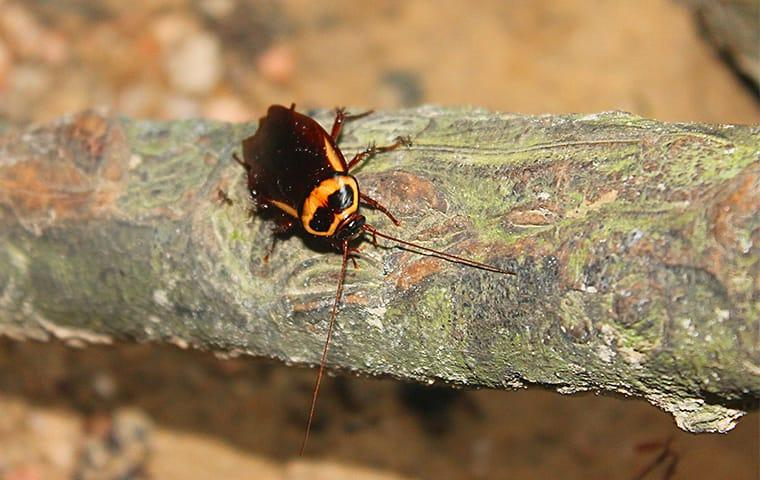cockroach: (239, 100, 377, 258)
